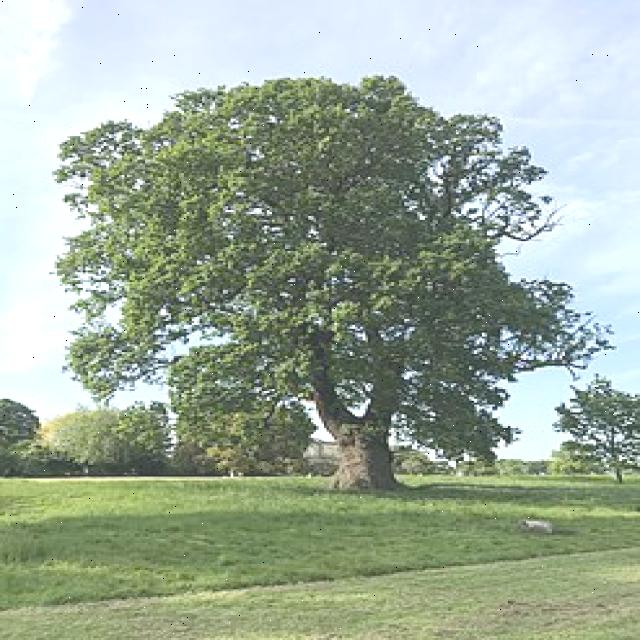Tree: (45, 89, 579, 488)
